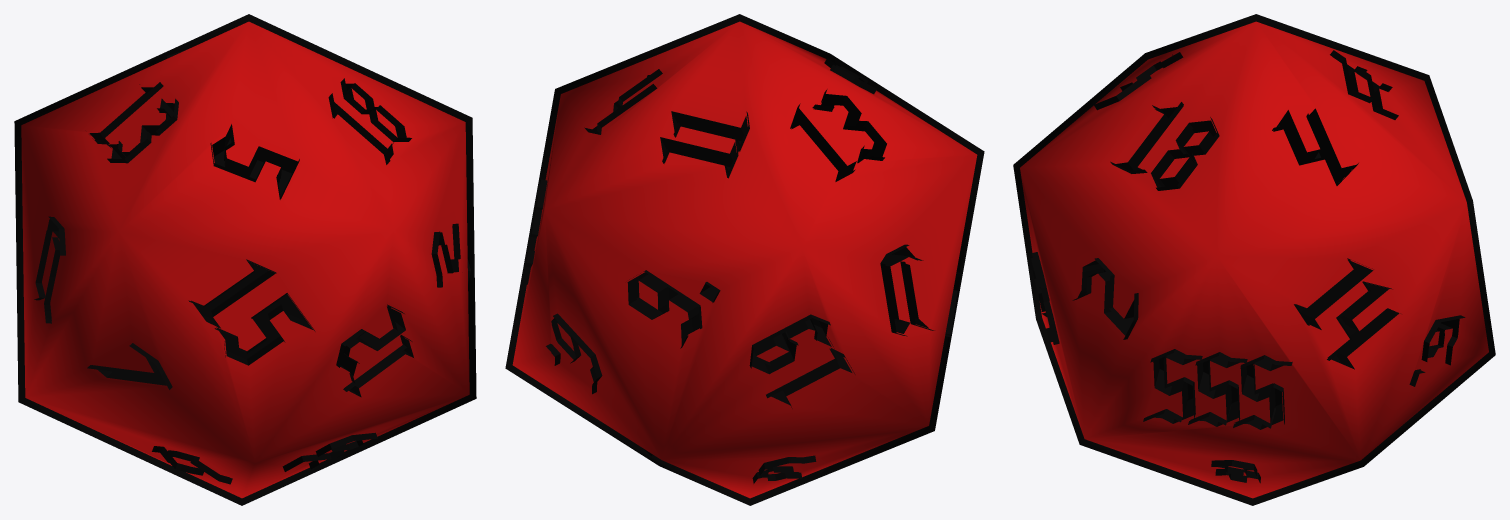
File: toon_dmc5_d20.glb
3 renders of one model, left to right at view 1: azimuth 30°, elevation 25°; view 2: azimuth 150°, elevation 25°; view 3: azimuth 270°, elevation 25°, orthographic.
Visible parts, largest first — view 1: polySurface1, polySurface2; view 2: polySurface1, polySurface2; view 3: polySurface1, polySurface2.
Boxes of the visible parts, <box> form: polySurface1: <box>21,21,469,498</box>; polySurface2: <box>14,14,476,505</box>; polySurface1: <box>512,21,977,498</box>; polySurface2: <box>505,14,984,505</box>; polySurface1: <box>1020,21,1488,498</box>; polySurface2: <box>1013,14,1495,505</box>.
Bounding box in the file's own units: 0.1838 × 0.2063 × 0.1818.
